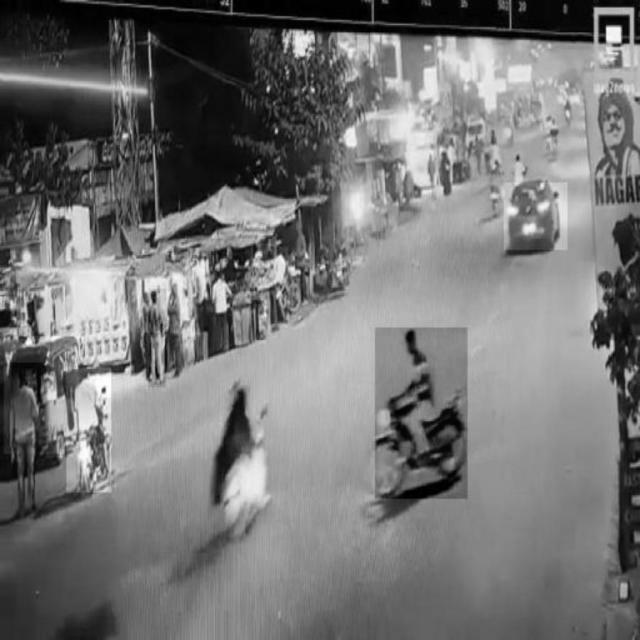person: (12, 363, 47, 520), (149, 289, 166, 387)
vehicle: (375, 328, 468, 498), (5, 337, 83, 455), (218, 373, 273, 530), (67, 368, 112, 492), (504, 183, 568, 250)
